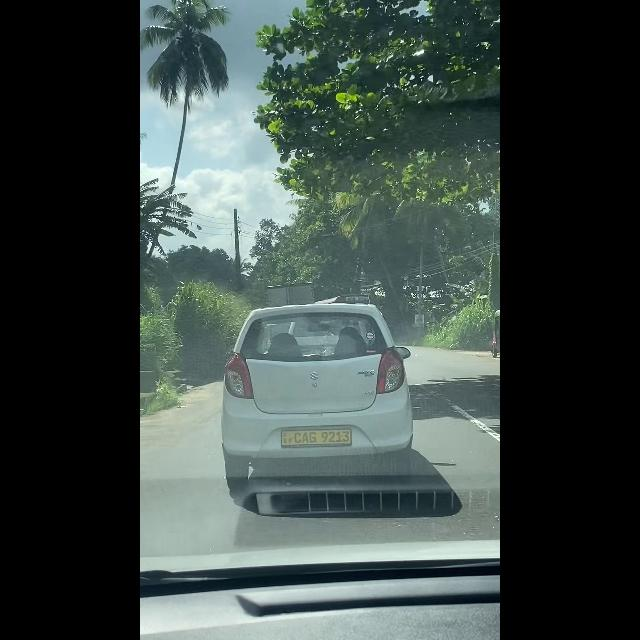car: (238, 308, 394, 472)
number_plate: (277, 428, 361, 449)
solid_line: (422, 378, 501, 466)
